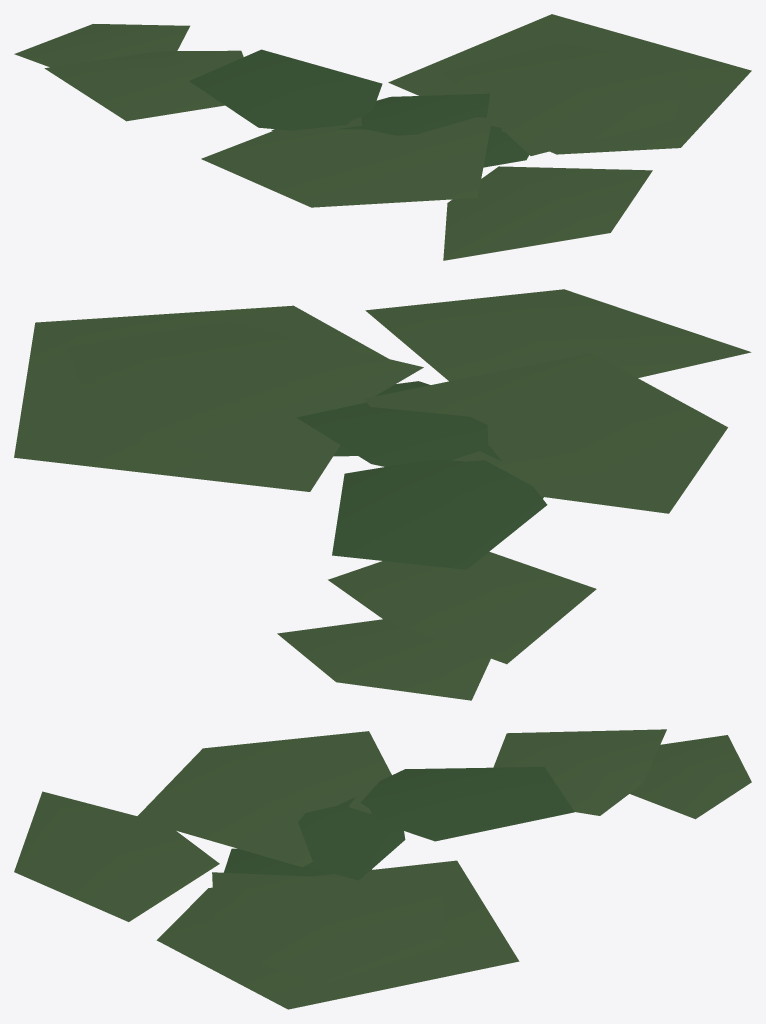
File: moss_a.glb
3 renders of one model, top to bottom at view 1: azimuth 30°, elevation 25°; view 2: azimuth 150°, elevation 25°; view 3: azimuth 270°, elevation 25°, orthographic. The views are drawn at different scales.
Visible parts, largest first — view 1: moss_a; view 2: moss_a; view 3: moss_a.
Boxes of the visible parts, left/top/right/bottom form: moss_a: left=14, top=14, right=751, bottom=260; moss_a: left=14, top=289, right=751, bottom=700; moss_a: left=14, top=729, right=751, bottom=1009.
Size of the model in its own units: 0.9174 by 0.0335 by 1.03.
1 material, 1 textured.
